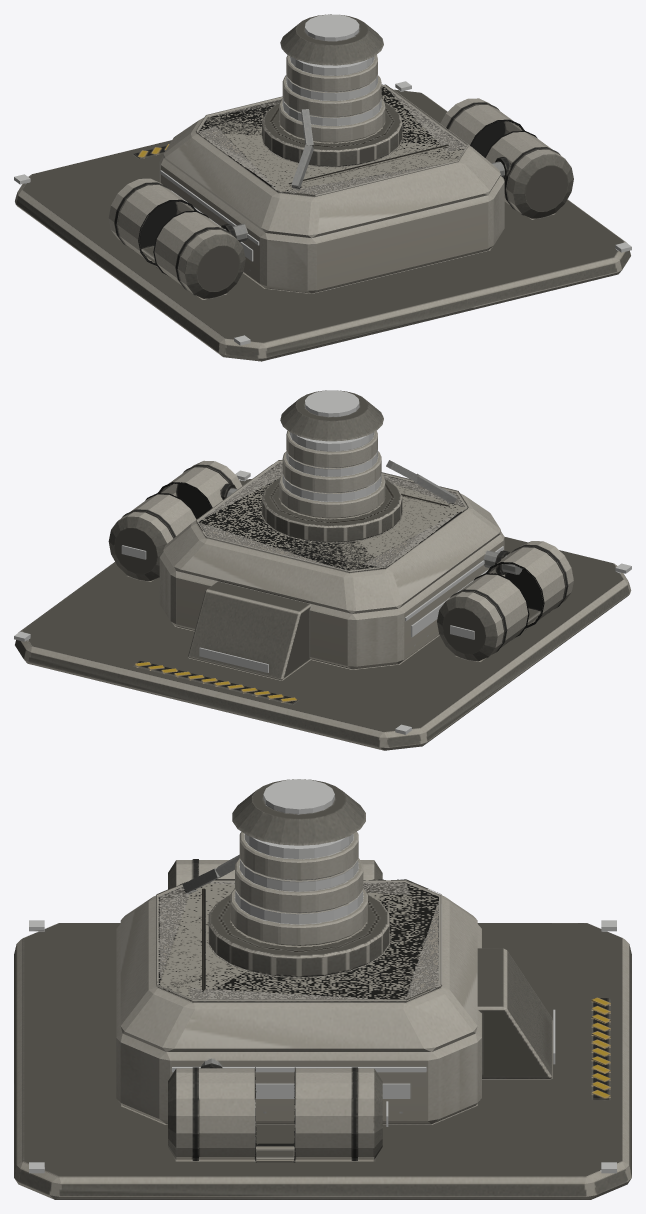
Rendered from ord_converter.fbx.
The picture shows the model from 3 angles, top to bottom: view 1: azimuth 30°, elevation 25°; view 2: azimuth 150°, elevation 25°; view 3: azimuth 270°, elevation 25°; orthographic projection. The views are drawn at different scales.
Parts seen in each view (by area): view 1: base_bar, coil_bar, coil_glow_power_bar, base_glow_running_bar; view 2: base_bar, coil_bar, coil_glow_power_bar, base_glow_power_bar, base_glow_running_bar; view 3: base_bar, coil_bar, coil_glow_power_bar, base_glow_running_bar, base_glow_power_bar.
Part boxes in pixels (left/top/right/bottom): base_bar: left=15, top=84, right=630, bottom=361; coil_bar: left=279, top=14, right=385, bottom=142; coil_glow_power_bar: left=282, top=14, right=381, bottom=125; base_glow_running_bar: left=14, top=81, right=631, bottom=345; base_bar: left=15, top=459, right=631, bottom=750; coil_bar: left=279, top=390, right=385, bottom=518; coil_glow_power_bar: left=282, top=390, right=381, bottom=501; base_glow_power_bar: left=121, top=545, right=503, bottom=672; base_glow_running_bar: left=14, top=470, right=631, bottom=734; base_bar: left=14, top=854, right=631, bottom=1199; coil_bar: left=230, top=779, right=367, bottom=945; coil_glow_power_bar: left=235, top=779, right=362, bottom=924; base_glow_running_bar: left=29, top=920, right=616, bottom=1173; base_glow_power_bar: left=172, top=1009, right=555, bottom=1126.
Size of the model in its own units: 1555 by 969 by 1555.
2 materials, 2 textured.
